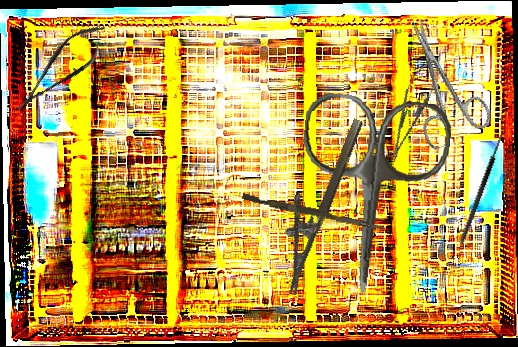Hook Surgical: (453, 117, 510, 245)
Iris Scissors: (288, 90, 454, 301), (386, 7, 496, 152)
Micro Scissor: (3, 13, 118, 124)
Needle Holder: (260, 108, 366, 296), (379, 54, 444, 167)
Pusher: (241, 193, 386, 231)
